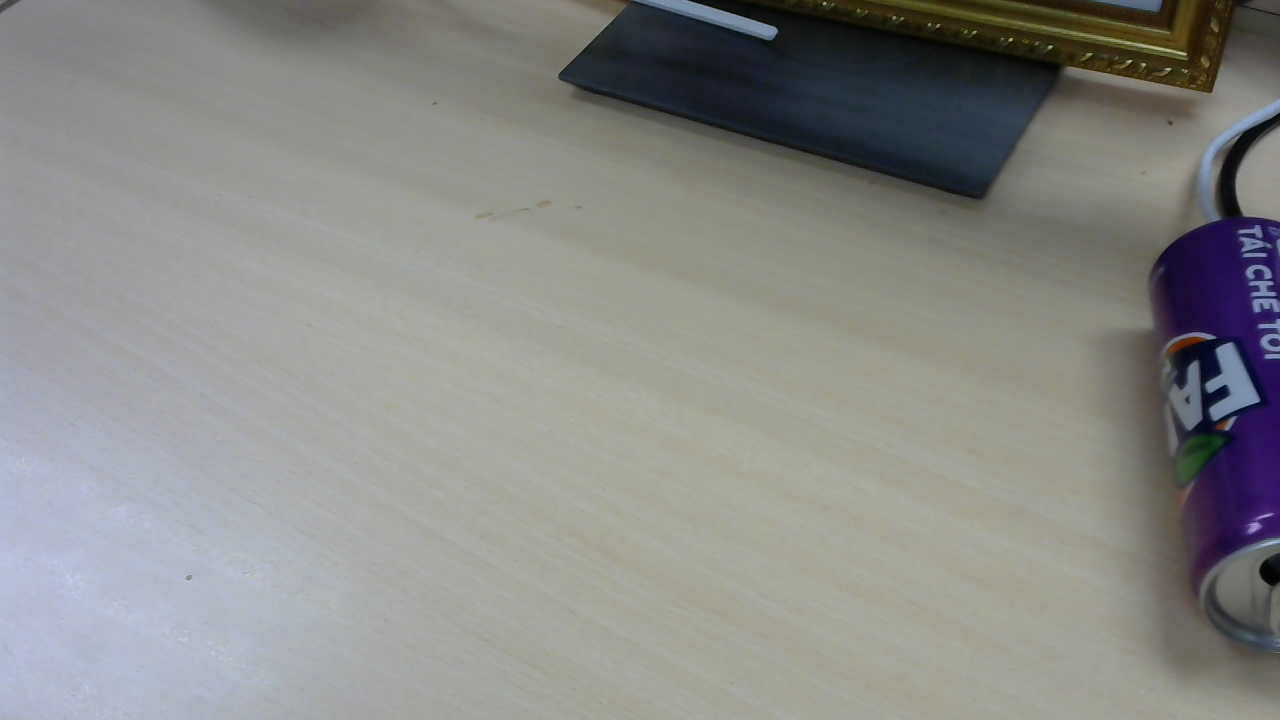Fanta: (1155, 218, 1280, 654)
